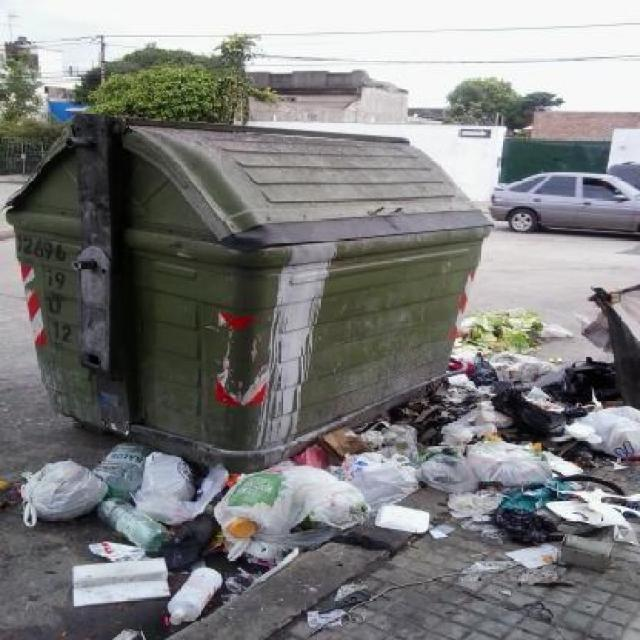garbage: (13, 440, 362, 607), (389, 371, 613, 570), (459, 308, 640, 390)
